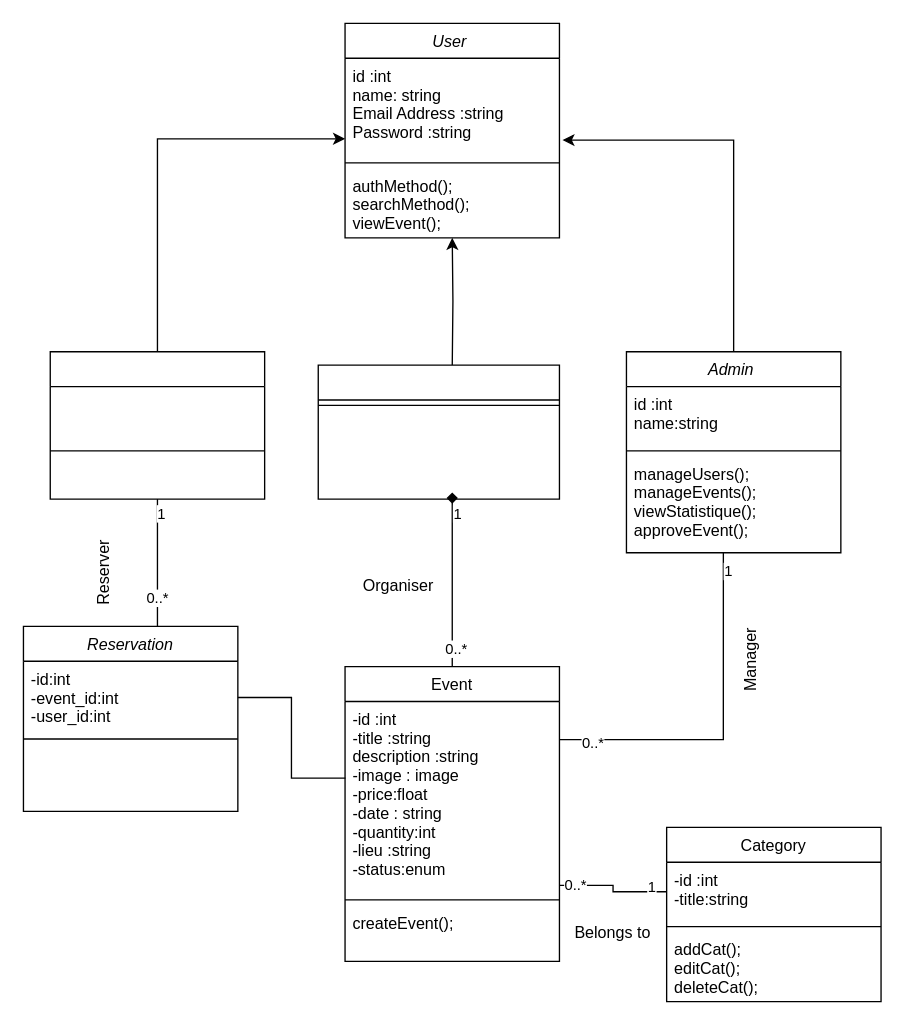
Image size: 905x1029. Some labels were removed from this diagram. The shapes that lost their labels are listed below. From the top down, each one's centre as x and y in pixels, then its label:
At (157,424): "Spectateur".
At (438,431): "Organisateur".
